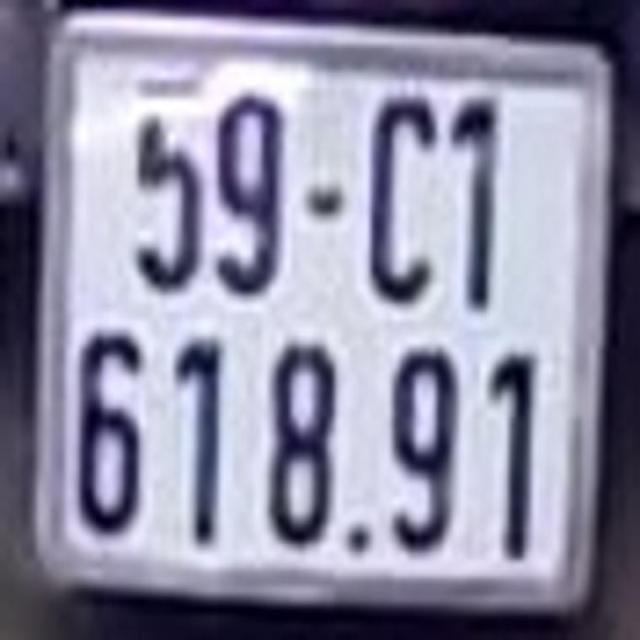1: (164, 324, 232, 546), (481, 344, 546, 567), (446, 86, 507, 316)
5: (131, 74, 207, 296)
6: (75, 324, 145, 543)
8: (266, 328, 338, 554)
9: (210, 74, 284, 296), (386, 336, 459, 559)
C: (360, 92, 443, 308)
